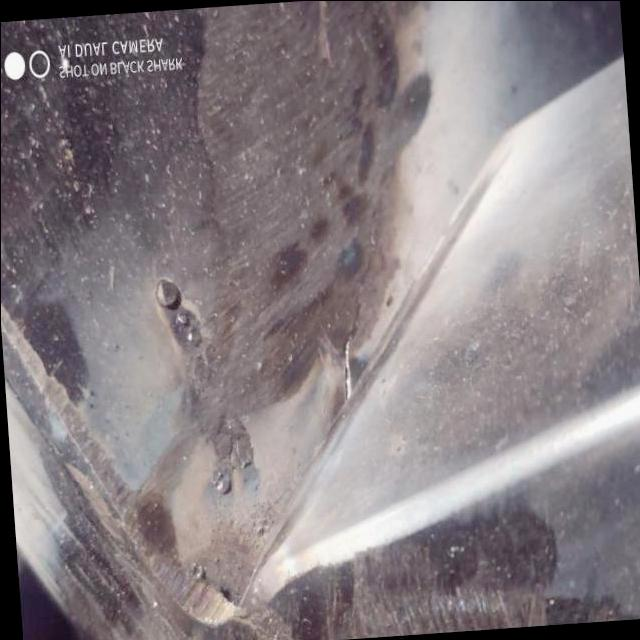defect: (334, 206, 384, 411)
